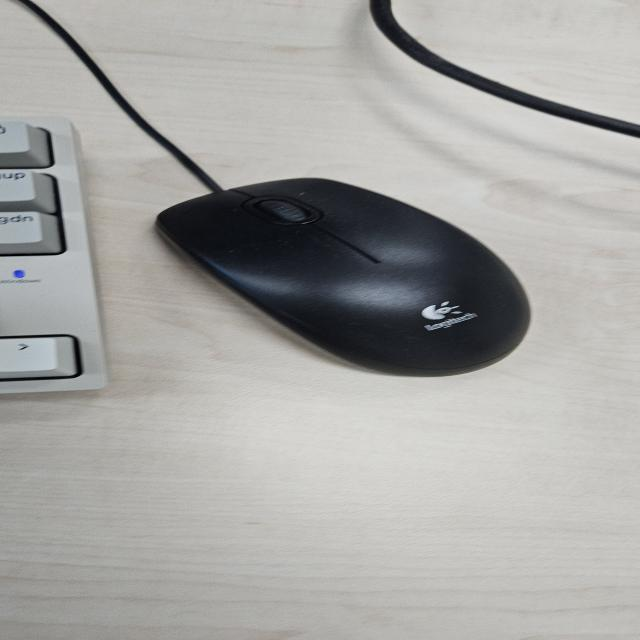Keyboard: (1, 115, 110, 394)
Mouse: (152, 176, 534, 378)
